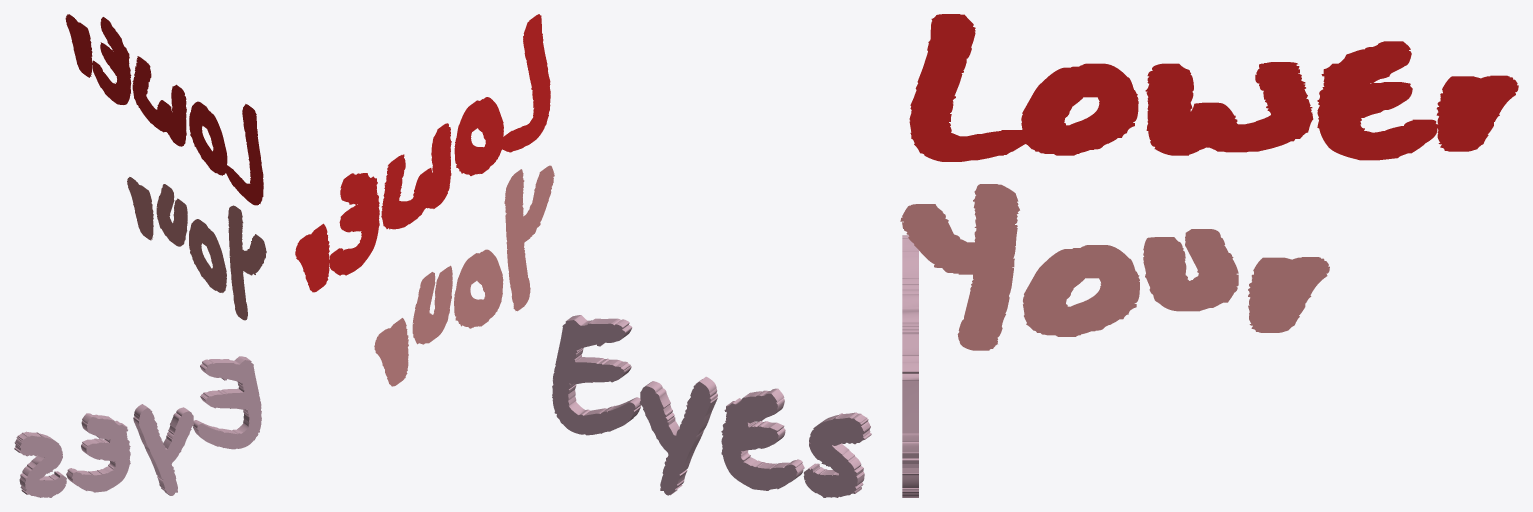
File: render4.gltf
3 views of the same model, side by side, from view 1: azimuth 30°, elevation 25°; view 2: azimuth 150°, elevation 25°; view 3: azimuth 270°, elevation 25° (orthographic). The views are drawn at different scales.
Parts seen in each view (by area): view 1: Cap 2 (×2), Cap 1, Extrude.2, Extrude, Extrude.1; view 2: Cap 2 (×3), Extrude.2, Extrude, Extrude.1; view 3: Cap 1 (×2), Extrude, Extrude.1, Extrude.2.
Part boxes in pixels (bbox=[...]): Cap 2 (×2): bbox=[65, 14, 261, 316]; Cap 1: bbox=[19, 360, 261, 497]; Extrude.2: bbox=[14, 356, 261, 497]; Extrude: bbox=[67, 14, 263, 205]; Extrude.1: bbox=[130, 177, 266, 320]; Cap 2 (×3): bbox=[295, 19, 864, 497]; Extrude.2: bbox=[552, 315, 871, 497]; Extrude: bbox=[297, 14, 550, 290]; Extrude.1: bbox=[376, 165, 554, 384]; Cap 1 (×2): bbox=[900, 14, 1501, 350]; Extrude: bbox=[932, 14, 1518, 161]; Extrude.1: bbox=[902, 184, 1329, 350]; Extrude.2: bbox=[902, 235, 918, 497].
Size of the model in its own units: 527 by 726 by 745.
